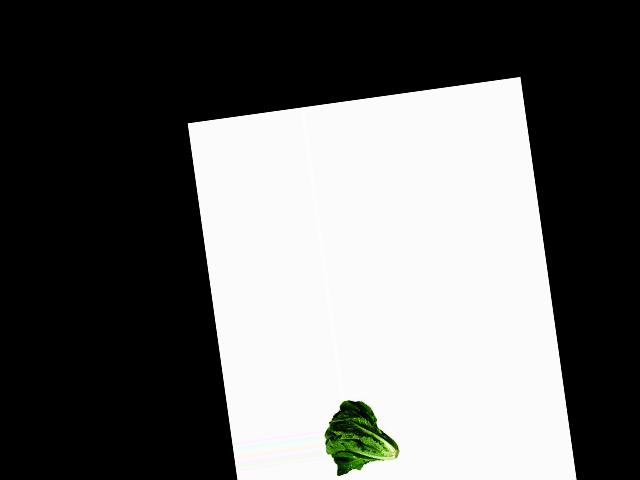lettuce: (319, 392, 404, 476)
